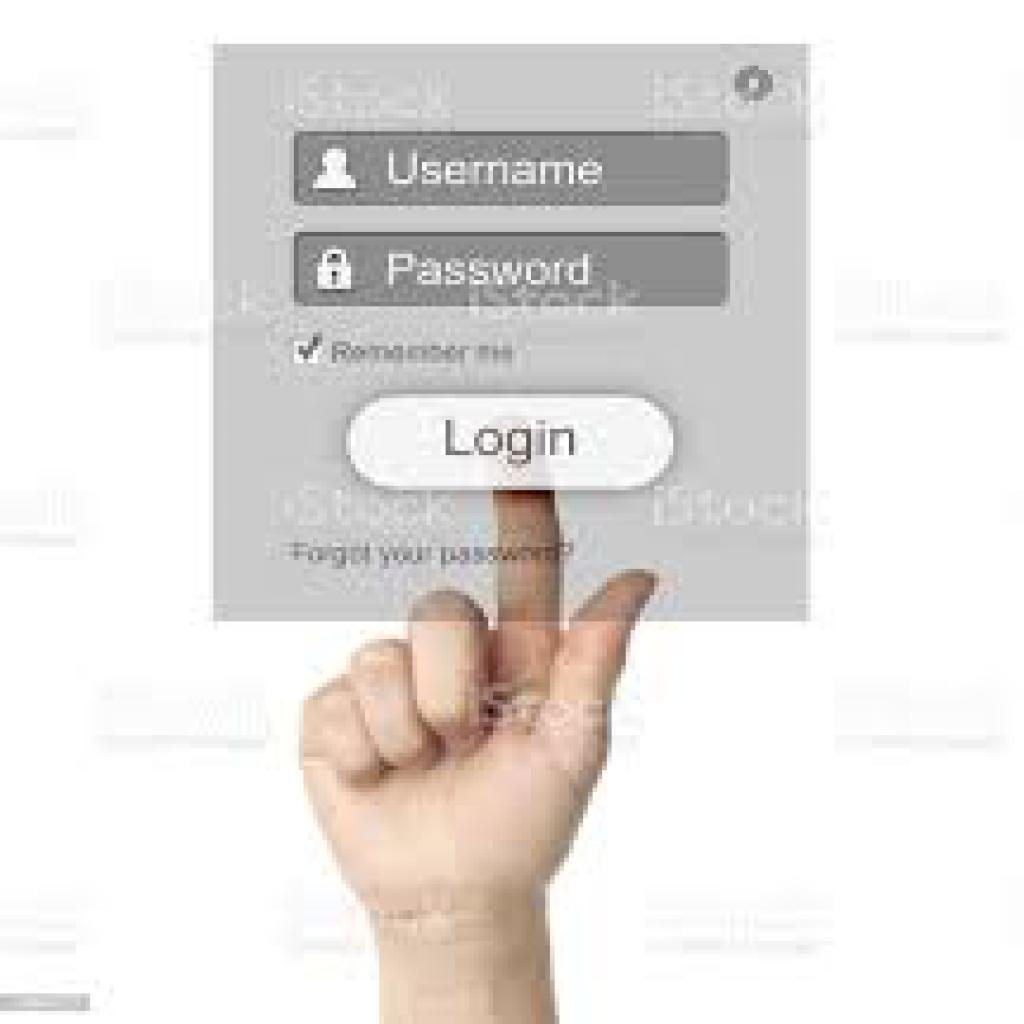button: (348, 394, 672, 495)
checkbox: (296, 334, 326, 369)
input: (295, 133, 729, 206), (293, 237, 734, 308)
